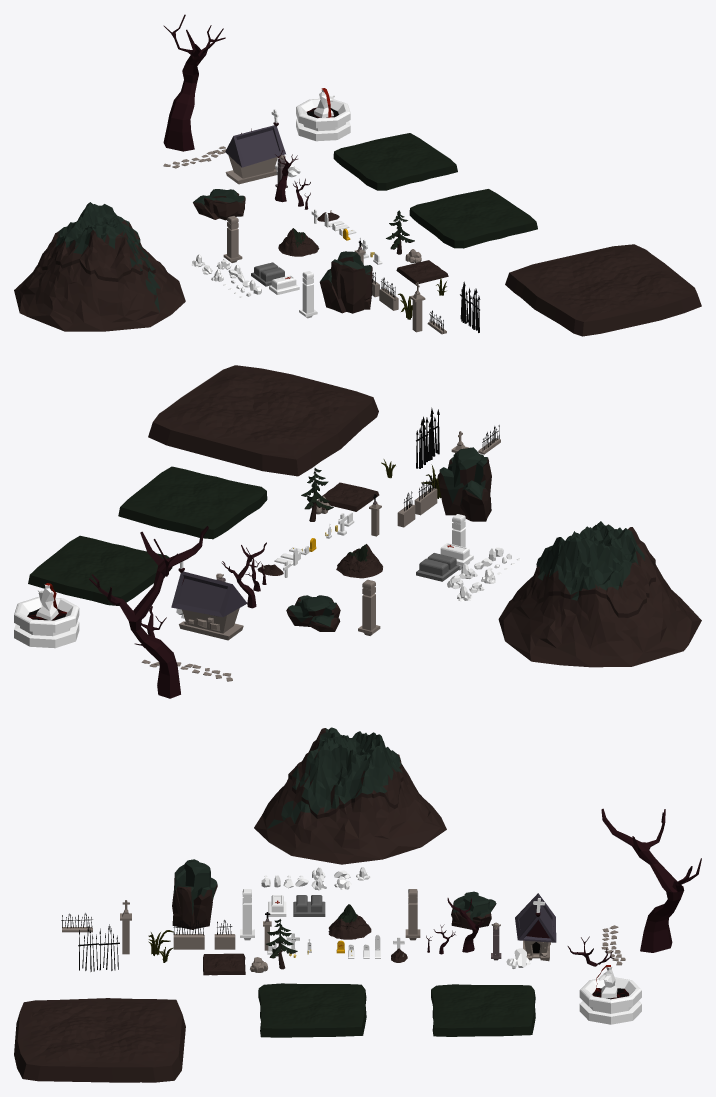
Rendered from graveyard.fbx.
The picture shows the model from 3 angles, top to bottom: view 1: azimuth 30°, elevation 25°; view 2: azimuth 150°, elevation 25°; view 3: azimuth 270°, elevation 25°; orthographic projection. The views are drawn at different scales.
Parts seen in each view (by area): view 1: PP_Forest_Mountain_Moss_02.001, PP_Meadow_07.001, PP_Meadow_08.001, PP_Meadow_08.002, Cylinder, PP_Rock_Pile_Forest_Moss_05.001, Cube.001, Plane, PP_Rock_Pile_Forest_Moss_05.002, PP_Meadow_Path_05.001, PP_Forest_Mountain_Moss_01.003, Cylinder.014 (+3 smaller); view 2: PP_Forest_Mountain_Moss_02.001, PP_Meadow_07.001, PP_Meadow_08.001, PP_Meadow_08.002, Cylinder, Cube.001, PP_Rock_Pile_Forest_Moss_05.001, Plane, PP_Rock_Pile_Forest_Moss_05.002, PP_Forest_Mountain_Moss_01.003, PP_Meadow_Path_05.001, Cylinder.014 (+5 smaller); view 3: PP_Forest_Mountain_Moss_02.001, PP_Meadow_07.001, PP_Meadow_08.001, PP_Meadow_08.002, Cube.001, Plane, PP_Rock_Pile_Forest_Moss_05.001, Cylinder, PP_Rock_Pile_Forest_Moss_05.002, PP_Forest_Mountain_Moss_01.003, PP_Meadow_Path_05.001, Cylinder.008 (+5 smaller).
Boxes of the visible parts, bbox=[...] form: PP_Forest_Mountain_Moss_02.001: bbox=[14, 202, 185, 331]; PP_Meadow_07.001: bbox=[505, 244, 701, 336]; PP_Meadow_08.001: bbox=[409, 189, 537, 248]; PP_Meadow_08.002: bbox=[333, 133, 457, 190]; Cylinder: bbox=[225, 109, 285, 184]; PP_Rock_Pile_Forest_Moss_05.001: bbox=[319, 251, 372, 313]; Cube.001: bbox=[163, 14, 225, 151]; Plane: bbox=[296, 88, 350, 141]; PP_Rock_Pile_Forest_Moss_05.002: bbox=[193, 189, 245, 220]; PP_Meadow_Path_05.001: bbox=[396, 260, 448, 284]; PP_Forest_Mountain_Moss_01.003: bbox=[278, 228, 319, 256]; Cylinder.014: bbox=[460, 281, 480, 332]; PP_Forest_Mountain_Moss_02.001: bbox=[498, 521, 701, 667]; PP_Meadow_07.001: bbox=[148, 365, 378, 476]; PP_Meadow_08.001: bbox=[118, 466, 267, 539]; PP_Meadow_08.002: bbox=[28, 535, 172, 605]; Cylinder: bbox=[171, 561, 247, 640]; Cube.001: bbox=[89, 526, 208, 698]; PP_Rock_Pile_Forest_Moss_05.001: bbox=[437, 447, 491, 521]; Plane: bbox=[14, 583, 79, 648]; PP_Rock_Pile_Forest_Moss_05.002: bbox=[286, 595, 340, 631]; PP_Forest_Mountain_Moss_01.003: bbox=[336, 544, 382, 578]; PP_Meadow_Path_05.001: bbox=[322, 482, 379, 511]; Cylinder.014: bbox=[416, 407, 439, 468]; PP_Forest_Mountain_Moss_02.001: bbox=[254, 727, 446, 864]; PP_Meadow_07.001: bbox=[14, 998, 185, 1082]; PP_Meadow_08.001: bbox=[258, 983, 366, 1037]; PP_Meadow_08.002: bbox=[431, 984, 535, 1036]; Cube.001: bbox=[601, 808, 701, 952]; Plane: bbox=[579, 965, 641, 1024]; PP_Rock_Pile_Forest_Moss_05.001: bbox=[172, 859, 217, 929]; Cylinder: bbox=[515, 893, 556, 961]; PP_Rock_Pile_Forest_Moss_05.002: bbox=[451, 891, 496, 929]; PP_Forest_Mountain_Moss_01.003: bbox=[328, 904, 371, 939]; PP_Meadow_Path_05.001: bbox=[203, 953, 245, 975]; Cylinder.008: bbox=[173, 920, 204, 949].
Bounding box in the file's own units: 54756 × 14402 × 55411.
